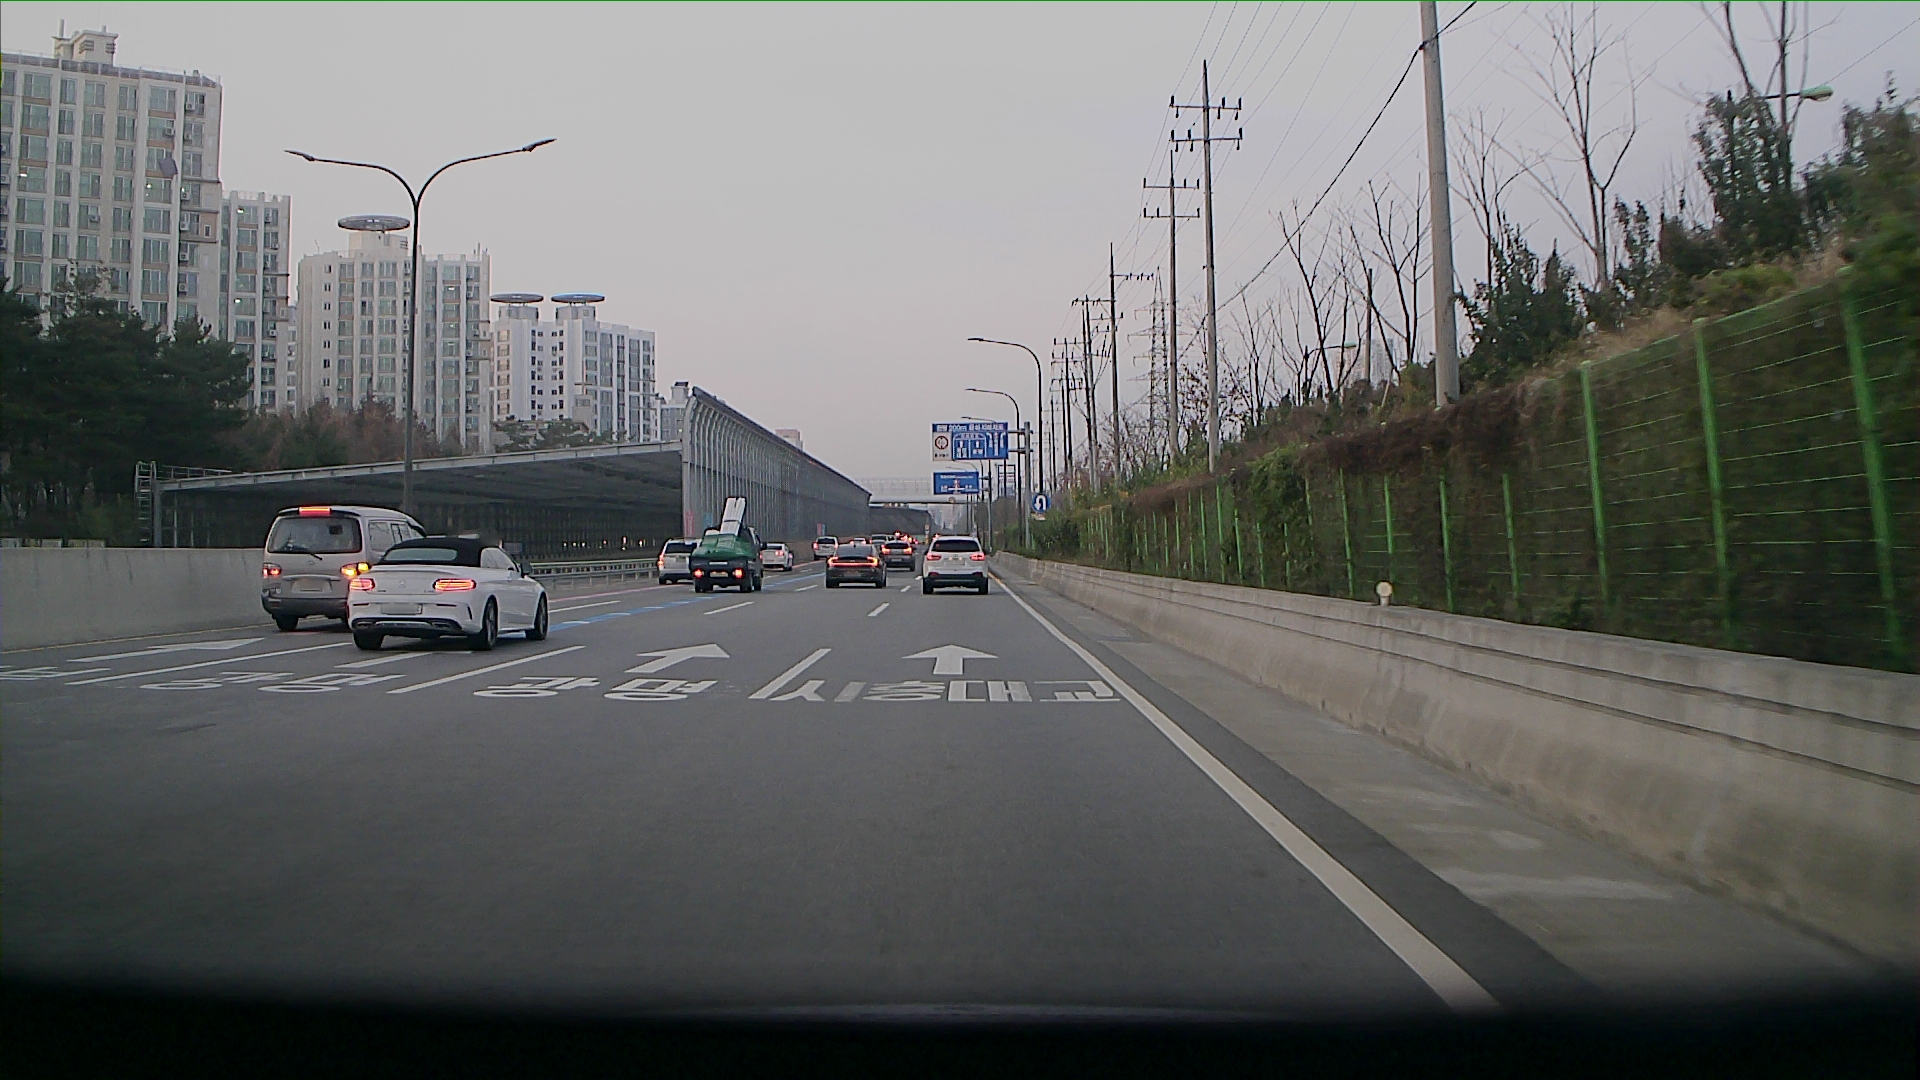trafficSignCircle: (1030, 491, 1055, 518)
trafficSignRTG: (930, 425, 1010, 463)
